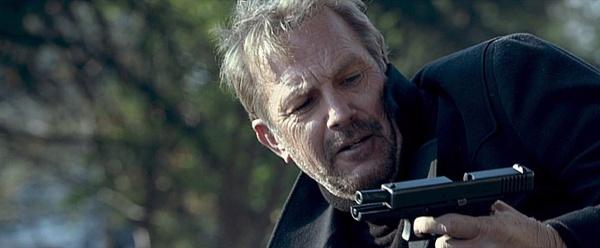Gun: (350, 162, 538, 248)
